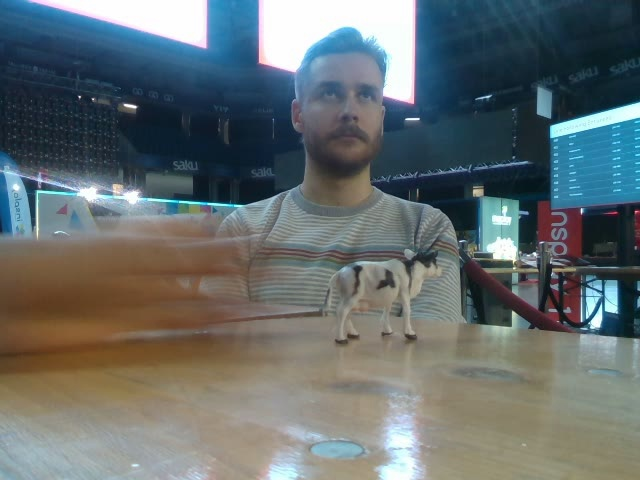toy: (322, 248, 442, 344)
